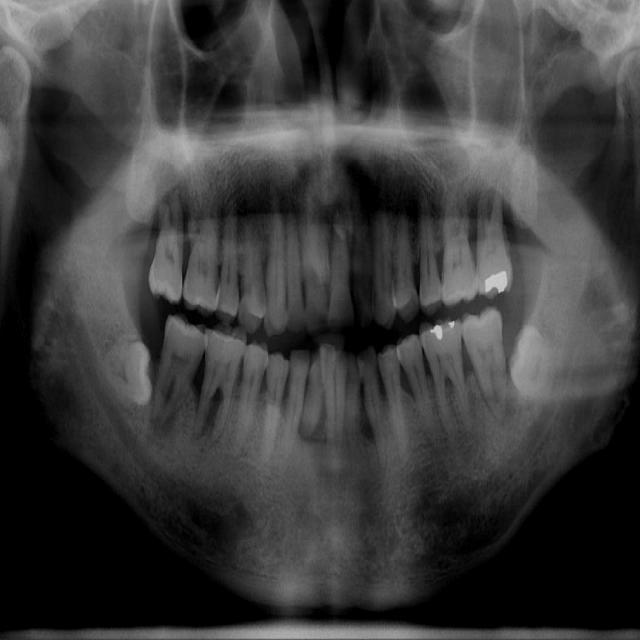Filling: (480, 270, 509, 295), (428, 323, 457, 341)
Periapical lesion: (147, 389, 178, 434), (298, 402, 329, 444), (485, 392, 511, 425), (163, 181, 190, 211), (156, 201, 170, 215)
impacted tooth: (508, 325, 584, 401), (95, 343, 151, 406), (513, 147, 543, 229)
